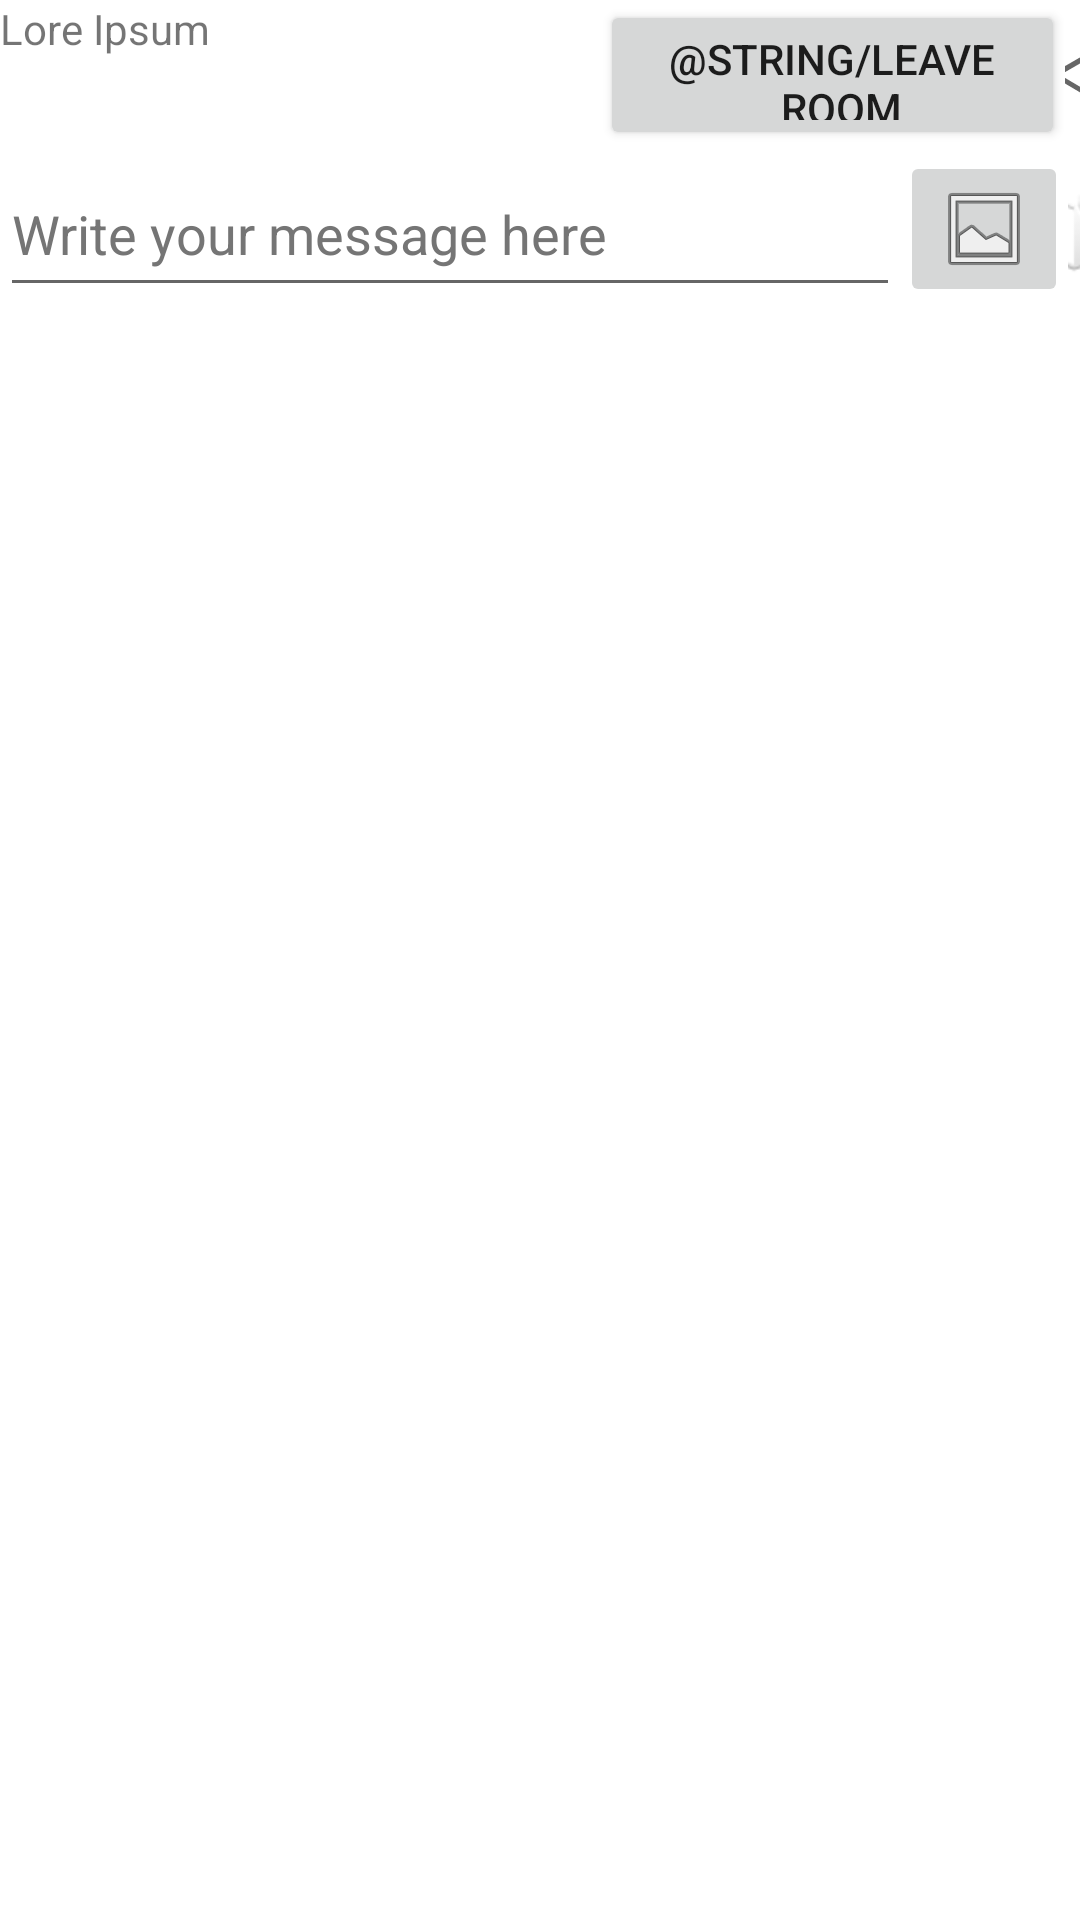

Icons on this 1080 × 1920 Android screen, each with the point to tap as [x,y]:
Upload Picture: [984,229]
